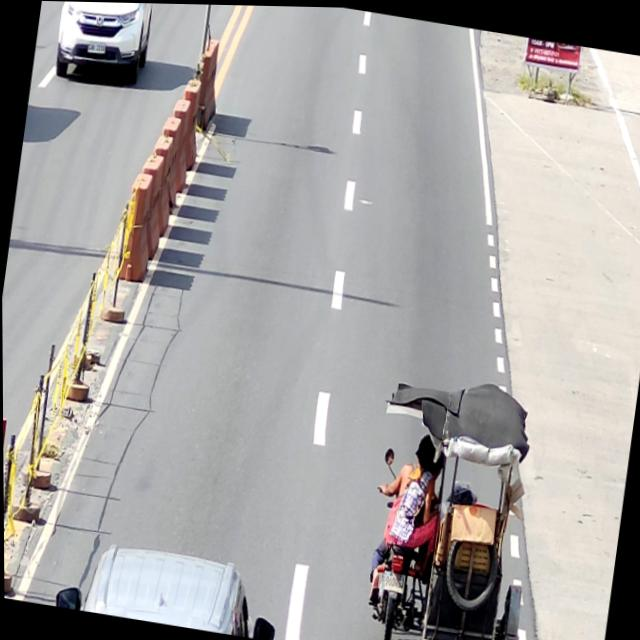Car: (53, 533, 284, 640), (48, 1, 159, 88)
License-Plate: (381, 569, 406, 592), (86, 37, 108, 55)
Tricycle: (349, 365, 551, 640)
